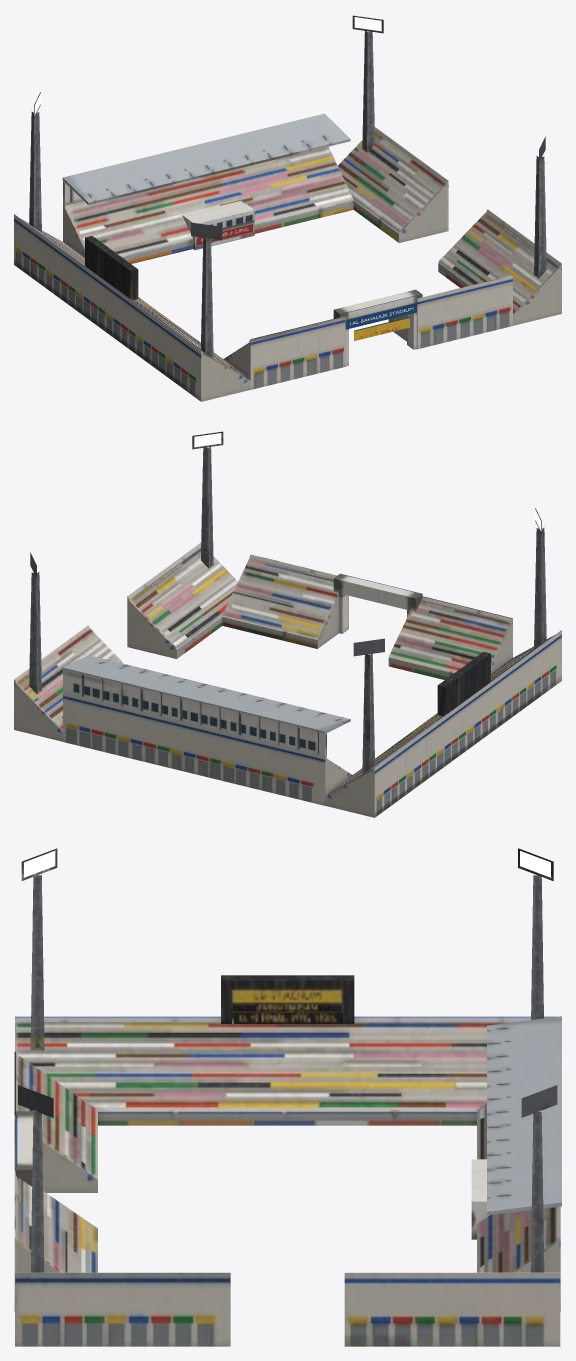
Rendered from lb_stadium.glb.
3 views of the same model, one above another, from view 1: azimuth 30°, elevation 25°; view 2: azimuth 150°, elevation 25°; view 3: azimuth 270°, elevation 25° (orthographic). The views are drawn at different scales.
Parts seen in each view (by area): view 1: lb_stadium_body, var_match, lb_signq; view 2: lb_stadium_body, var_match; view 3: lb_stadium_body, var_match, lb_lamps.
Part boxes in pixels (x1,y1,x2,y2): lb_stadium_body: [14, 15, 561, 401]; var_match: [21, 132, 558, 377]; lb_signq: [346, 303, 416, 329]; lb_stadium_body: [14, 431, 561, 817]; var_match: [17, 548, 554, 793]; lb_stadium_body: [14, 848, 561, 1346]; var_match: [15, 1013, 556, 1272]; lb_lamps: [24, 851, 550, 877].
Size of the model in its own units: 221 by 98.8 by 200.
Materials: 3 (2 with a texture image).
